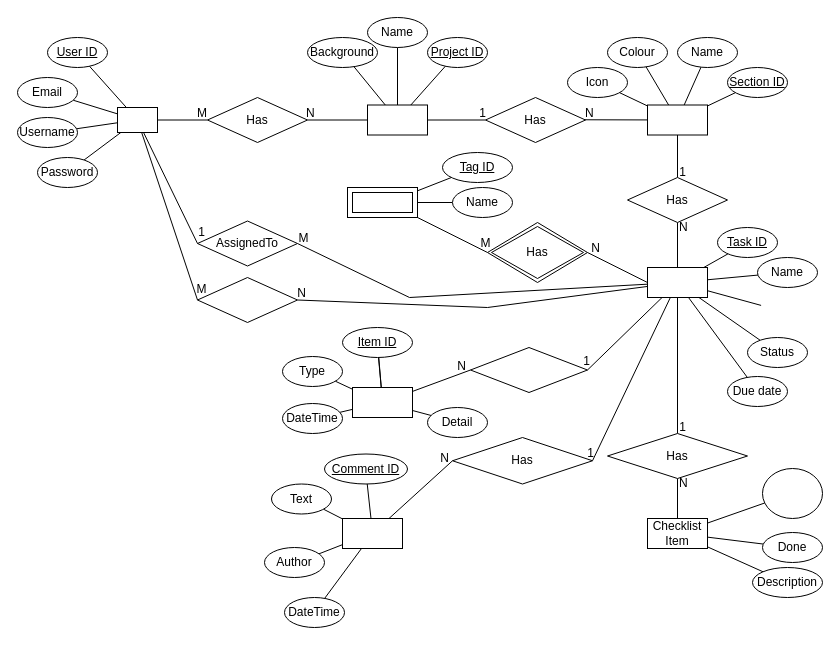
This 840x645 diagram has some shape labels left out. The box of each missing label's shape, as (x1, y1, x2, y2) in pixels:
Checklist item ID: (762, 468, 822, 518)
Comment: (342, 518, 402, 548)
History Item: (352, 386, 412, 418)
Project: (366, 104, 428, 135)
Section: (646, 104, 708, 135)
Tag: (346, 186, 418, 218)
Task: (646, 266, 708, 298)
TaskHistoryItem: (470, 346, 588, 392)
User: (116, 106, 158, 132)
Watches: (196, 276, 298, 322)
